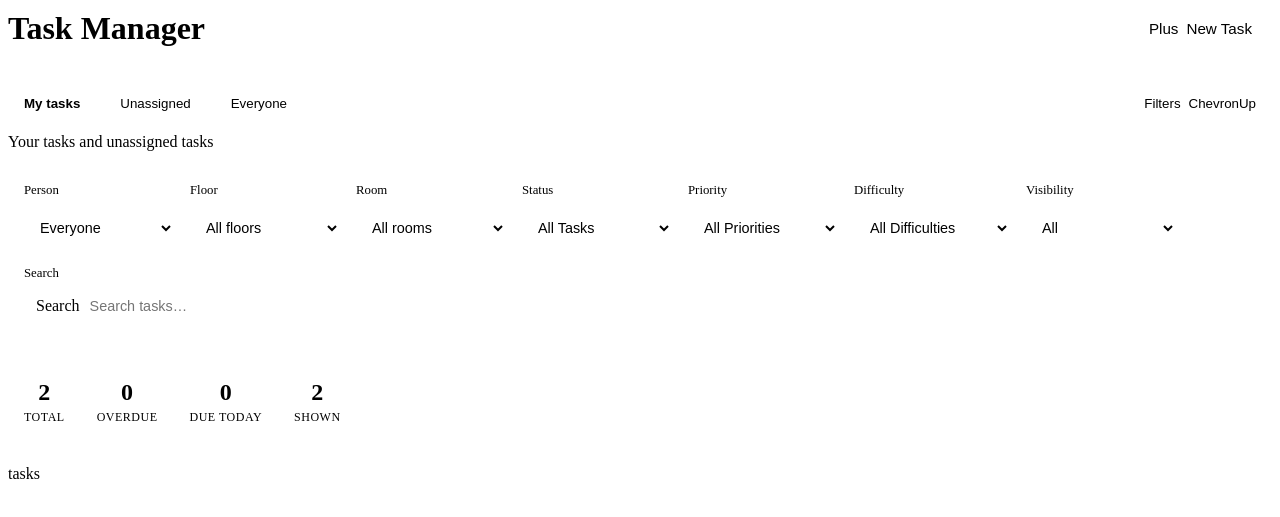
Test: TaskManager › prefills the create form from no filter
This screenshot has width=1280, height=517.
Click the button with test id "add-task-button" at (1200, 28), box [1129,8,1272,49]
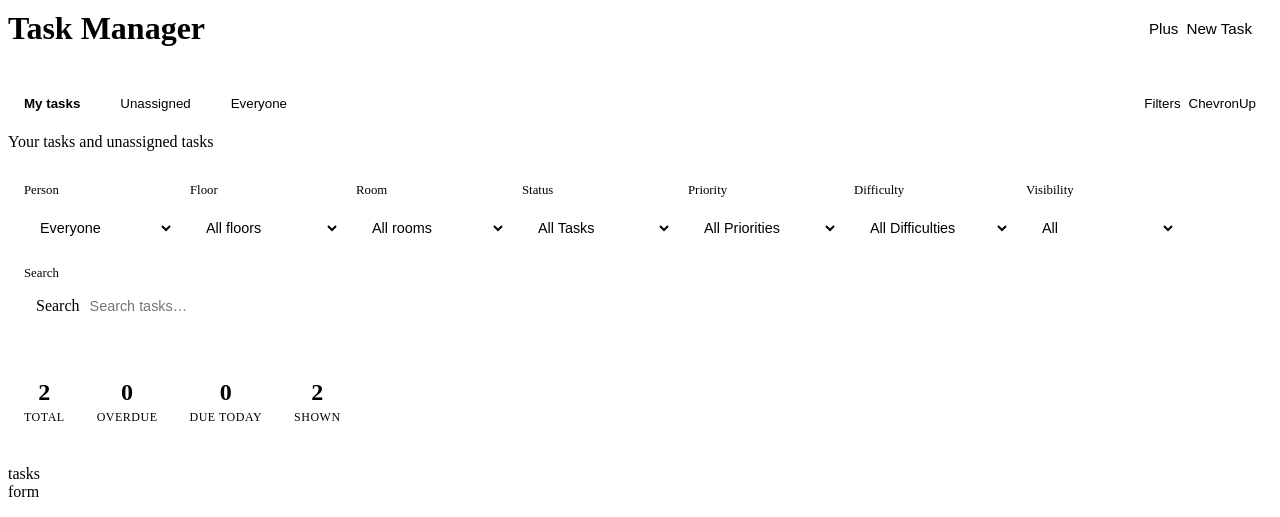
expect the text "form" is shown: met, box [8,483,39,500]
